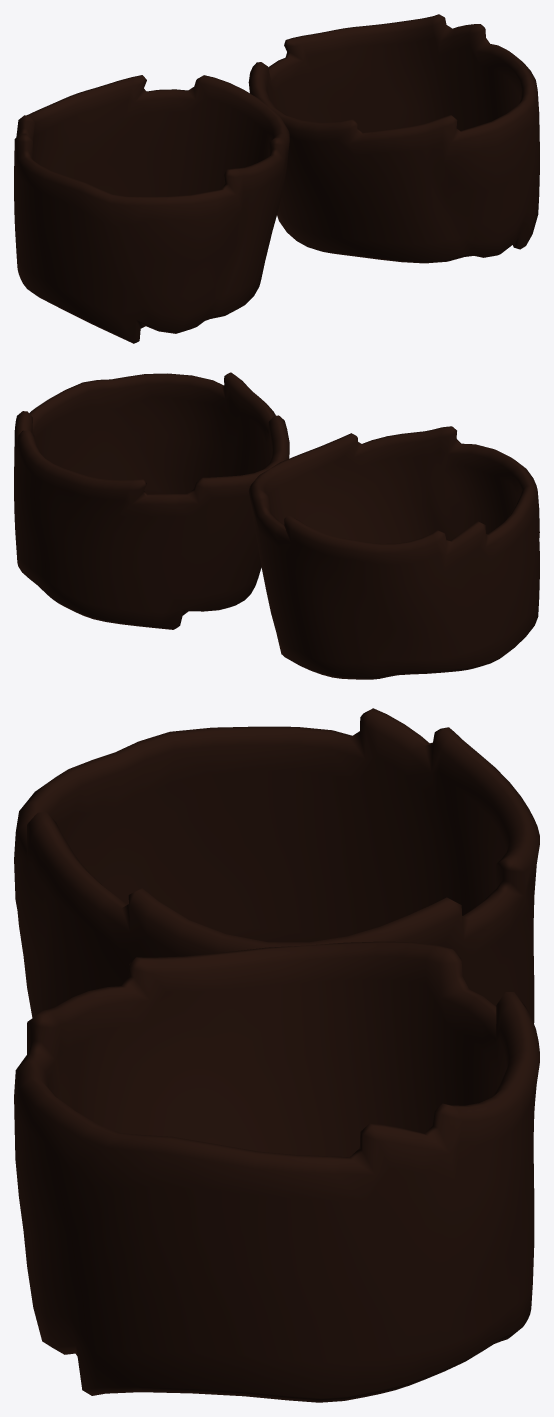
Rendered from arm_human_waist_blackened_belt_t1_m.glb.
3 renders of one model, top to bottom at view 1: azimuth 30°, elevation 25°; view 2: azimuth 150°, elevation 25°; view 3: azimuth 270°, elevation 25°, orthographic. The views are drawn at different scales.
Parts seen in each view (by area): view 1: armor_fitted_belt; view 2: armor_fitted_belt; view 3: armor_fitted_belt.
Part boxes in pixels (left/top/right/bottom): armor_fitted_belt: left=14, top=14, right=539, bottom=343; armor_fitted_belt: left=14, top=372, right=539, bottom=679; armor_fitted_belt: left=14, top=708, right=539, bottom=1402.
Bounding box in the file's own units: 0.4137 × 0.1333 × 0.2076.
